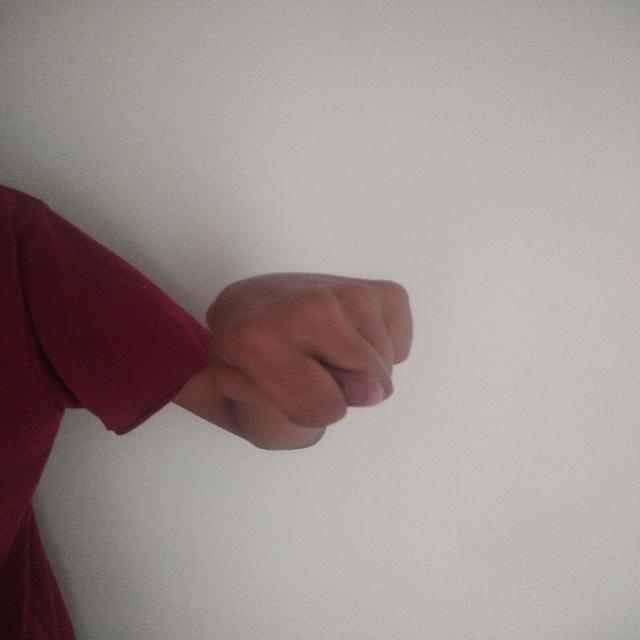Dulya: (194, 269, 422, 443)
